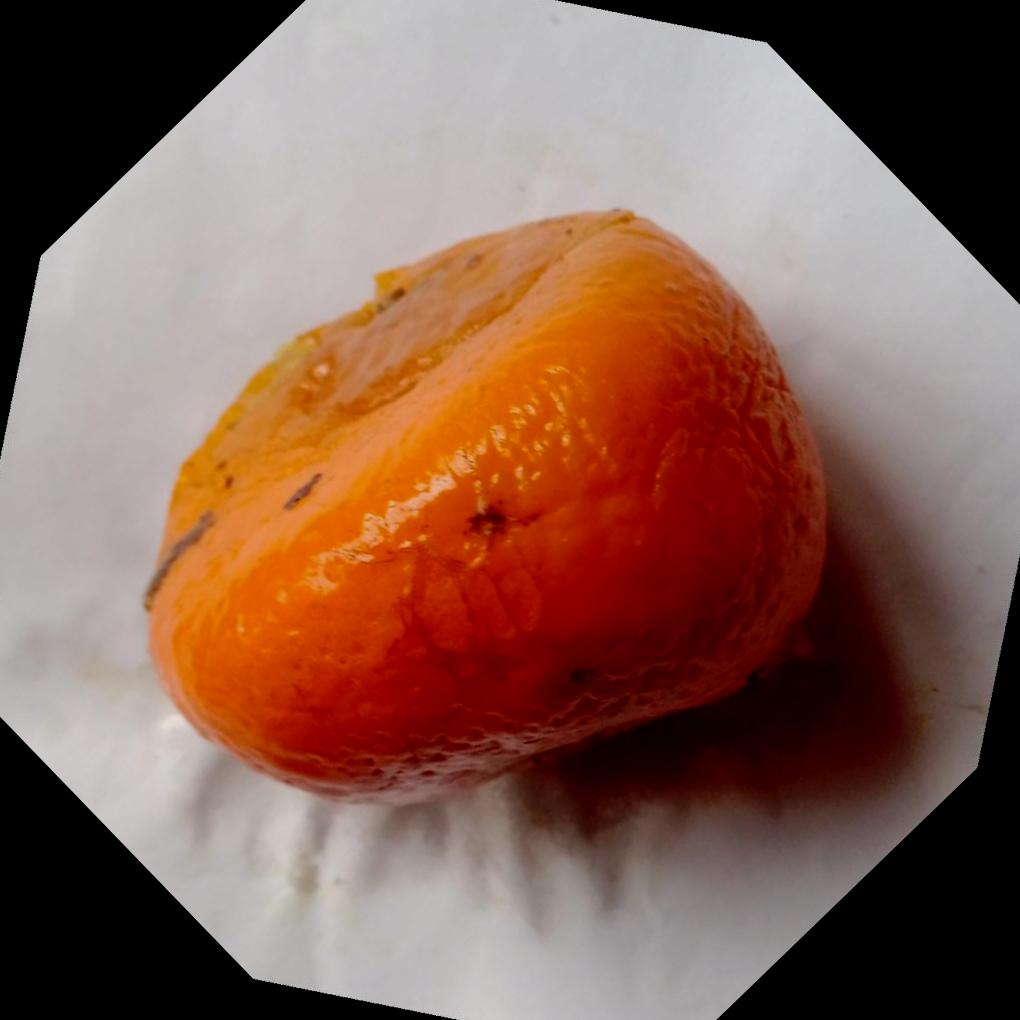FreshOrange: (145, 204, 833, 807)
